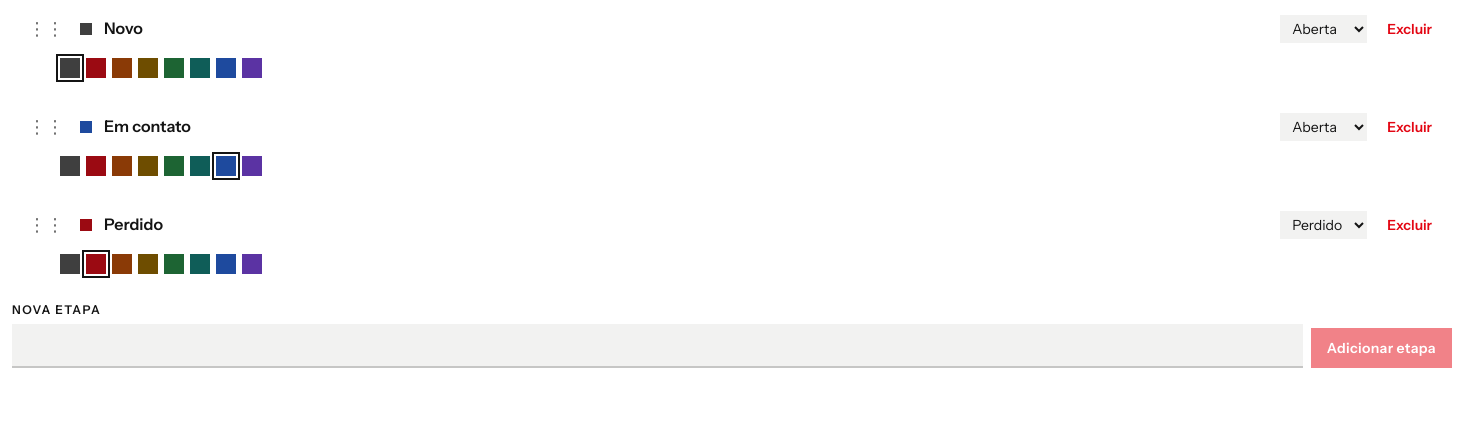
Test: StageEditor › shows server errors in pt-BR
The image size is (1464, 437).
Type "Novo" into the field labelled "Nova etapa" at (657, 346), box [12,324,1303,368]
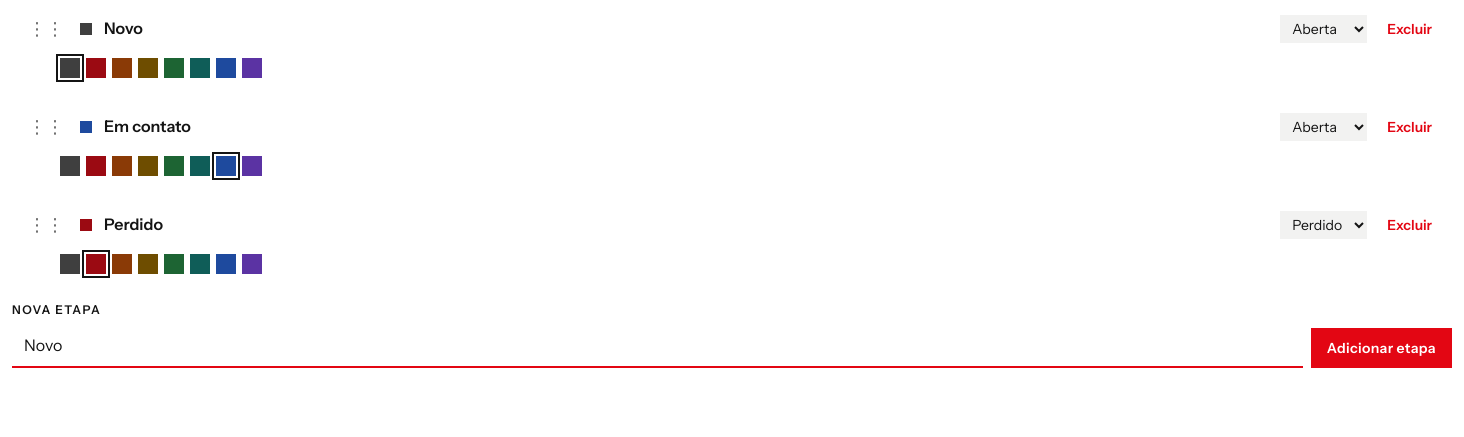
Click the button "Adicionar etapa" at (1381, 348), box [1311,328,1452,368]
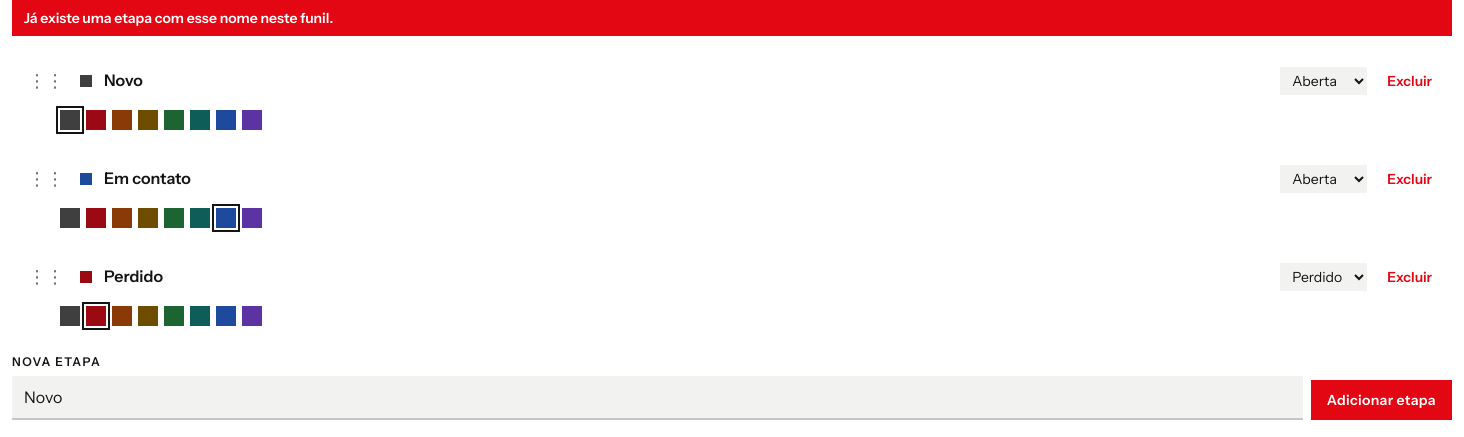
Check: the message reads "Já existe uma etapa com esse nome neste funil.", box [24,9,333,27]
